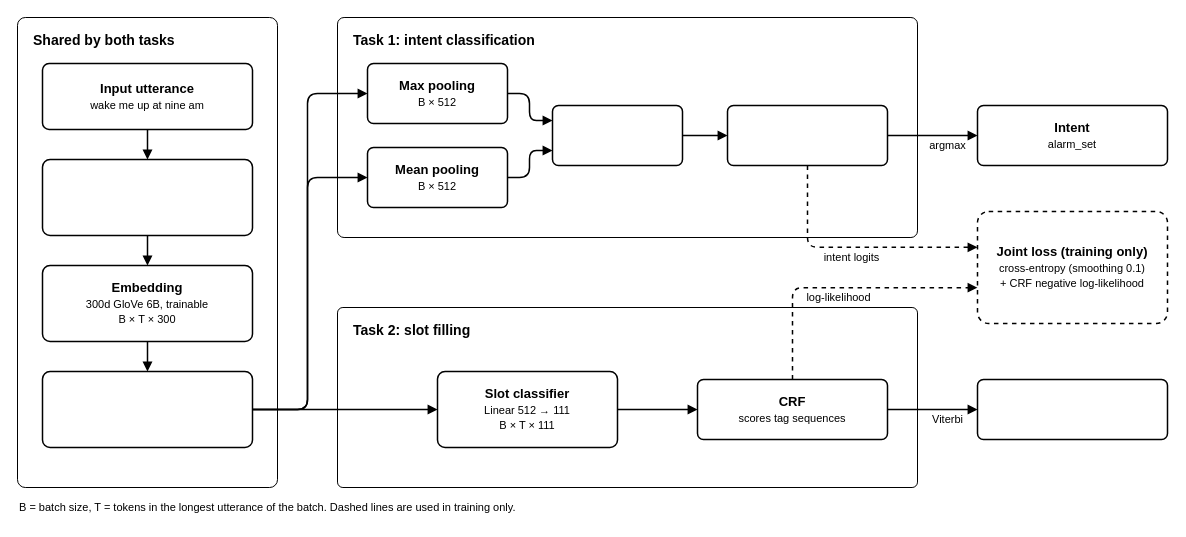
Some shapes in this 1186 by 537 pixel diagram are drawn without their labels. Each missing label, with the centre of its shape:
"2-layer BiLSTM 256 units per direction B × T × 512" goes at [147,409].
"BIO tags O O O O B-time I-time" goes at [1072,409].
"Concatenate B × 1024" goes at [617,135].
"Intent classifier Linear 1024 → 60" goes at [807,135].
"Token IDs word dropout in training B × T" goes at [147,197].
